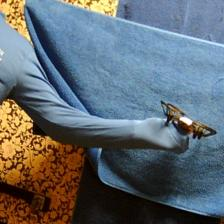drone: (158, 100, 219, 146)
